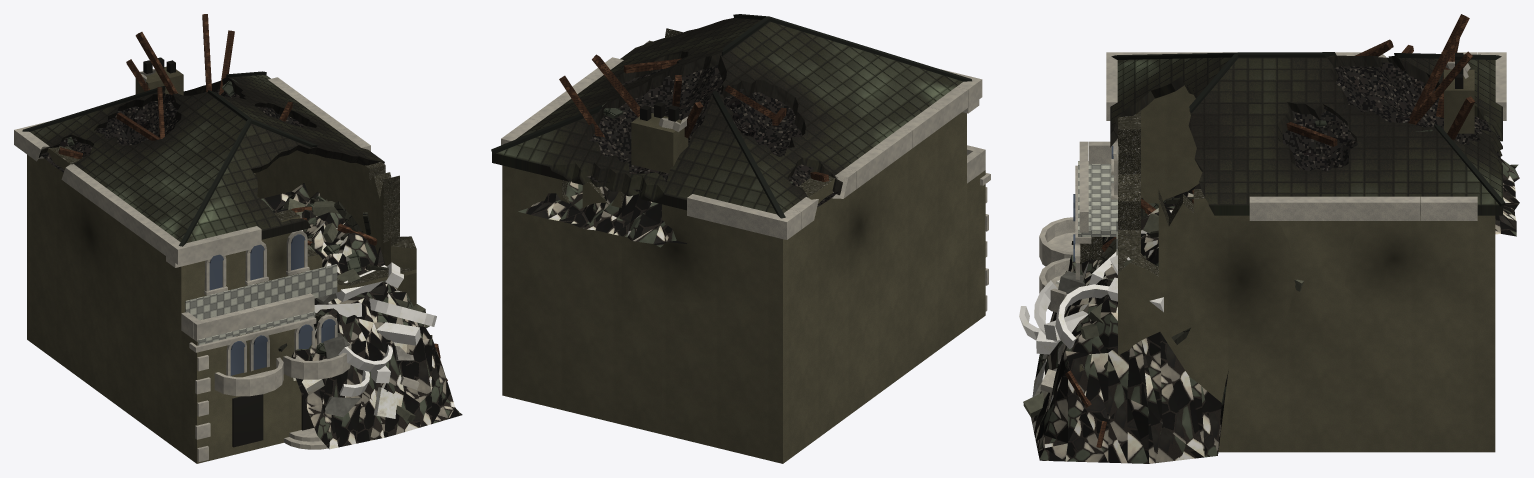
File: CreBuild09a.glb
3 renders of one model, left to right at view 1: azimuth 30°, elevation 25°; view 2: azimuth 150°, elevation 25°; view 3: azimuth 270°, elevation 25°, orthographic. The views are drawn at different scales.
Parts seen in each view (by area): view 1: CreBuild09a_wall; view 2: CreBuild09a_wall; view 3: CreBuild09a_wall.
Boxes of the visible parts, x1=… form: CreBuild09a_wall: x1=14, y1=14, x2=462, y2=463; CreBuild09a_wall: x1=491, y1=14, x2=990, y2=463; CreBuild09a_wall: x1=1019, y1=14, x2=1519, y2=463.
Bounding box in the file's own units: 9.84 × 10.33 × 13.07.
20 materials, 17 textured.
